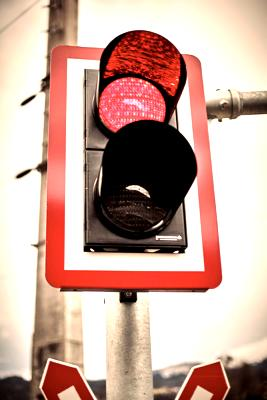International Road Signal Light: (45, 44, 222, 289)
